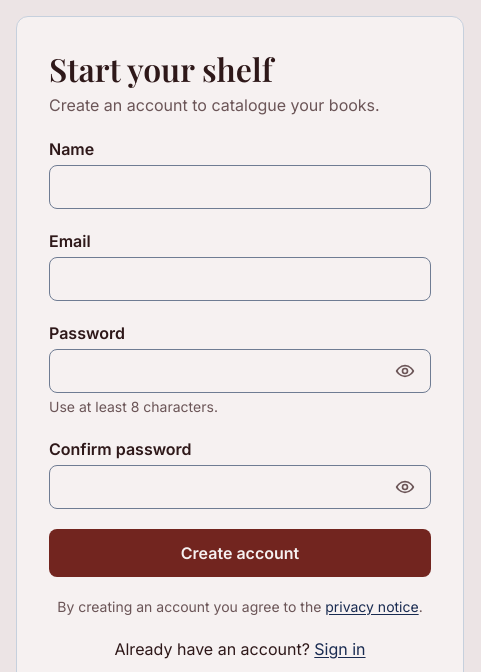
Test: RegisterForm › asks for a password when the field is empty
expect the field labelled "Name" is shown: met, box [49,165,431,209]
Click the button "Create account" at (240, 553), box [49,529,431,577]
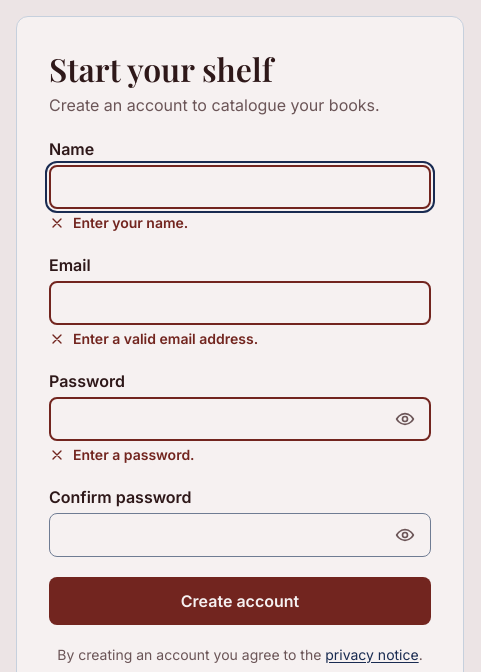
expect the text "Enter a password." is shown: met, box [73,445,195,465]
